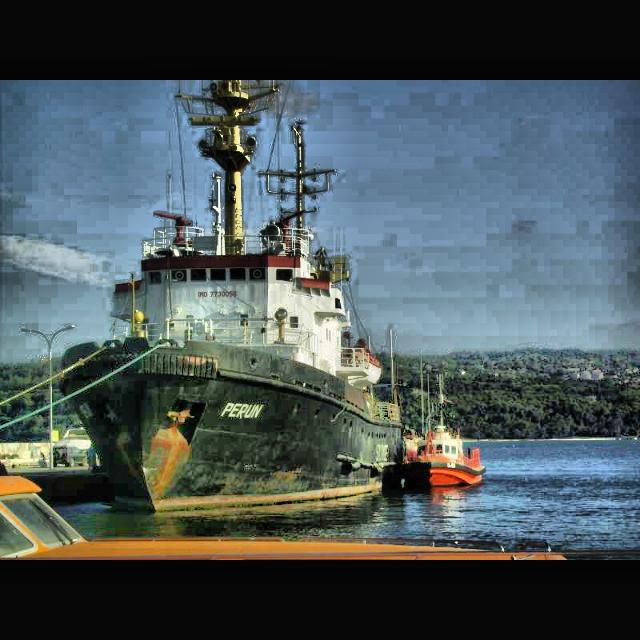tug: (404, 412, 486, 492)
